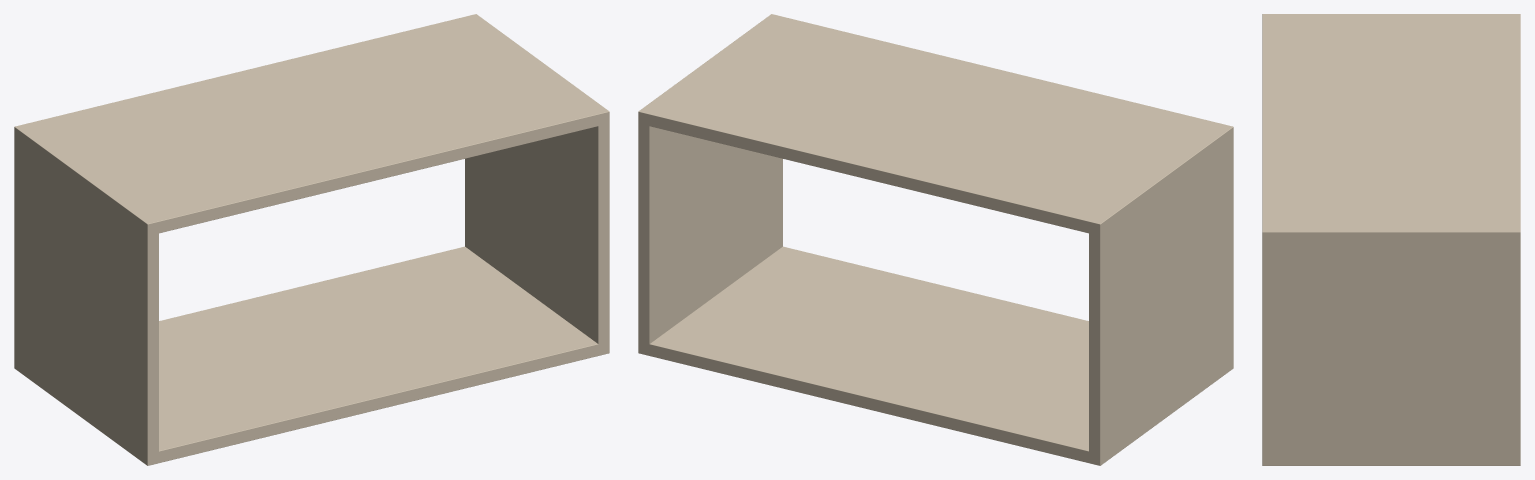
File: MOD-2X1-A-O-AR.glb
The picture shows the model from 3 angles, left to right: view 1: azimuth 30°, elevation 25°; view 2: azimuth 150°, elevation 25°; view 3: azimuth 270°, elevation 25°; orthographic projection. The views are drawn at different scales.
Bounding box in the file's own units: 720 × 360 × 360.
